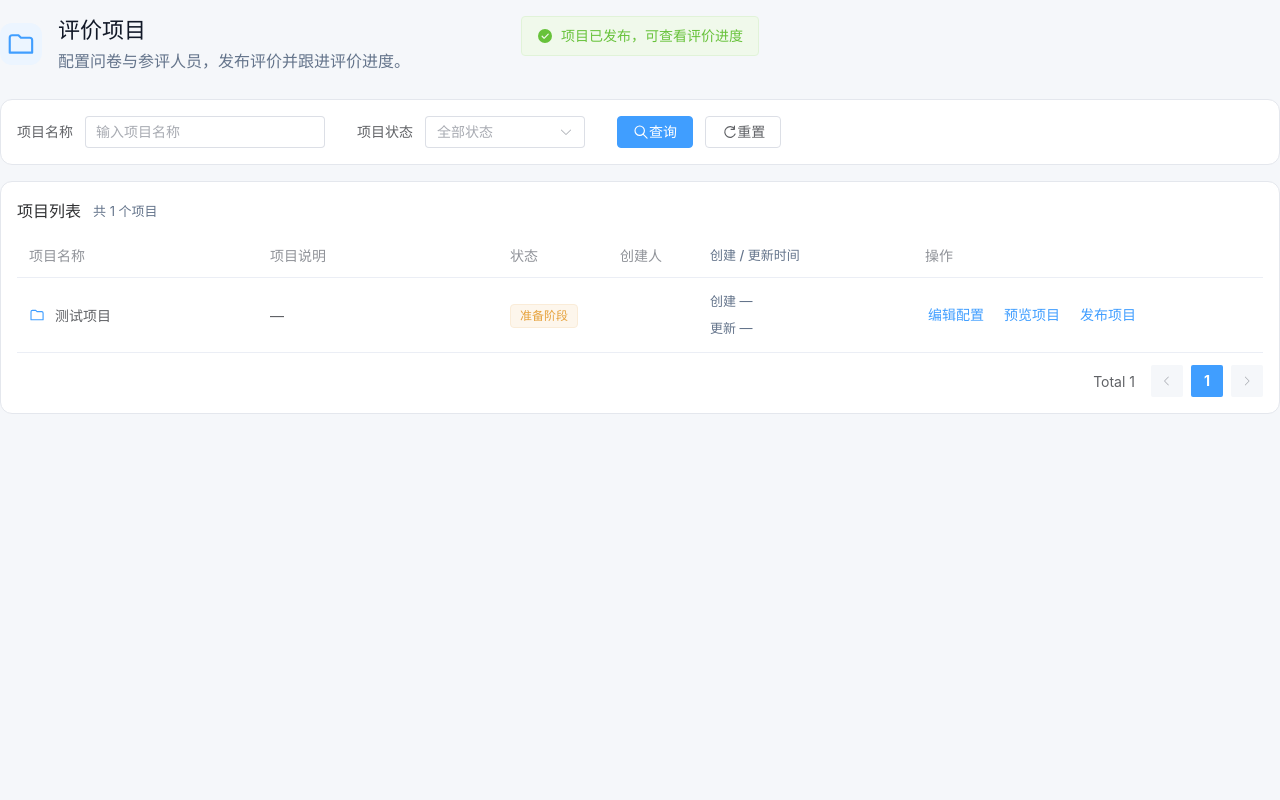
Scenario: 预览未完成配置展示四个只读页签和缺项，不保存或发布，失败可重试
The width and height of the screenshot is (1280, 800).
Click the button "预览项目" at point(1032, 315), box [1001,305,1063,325]
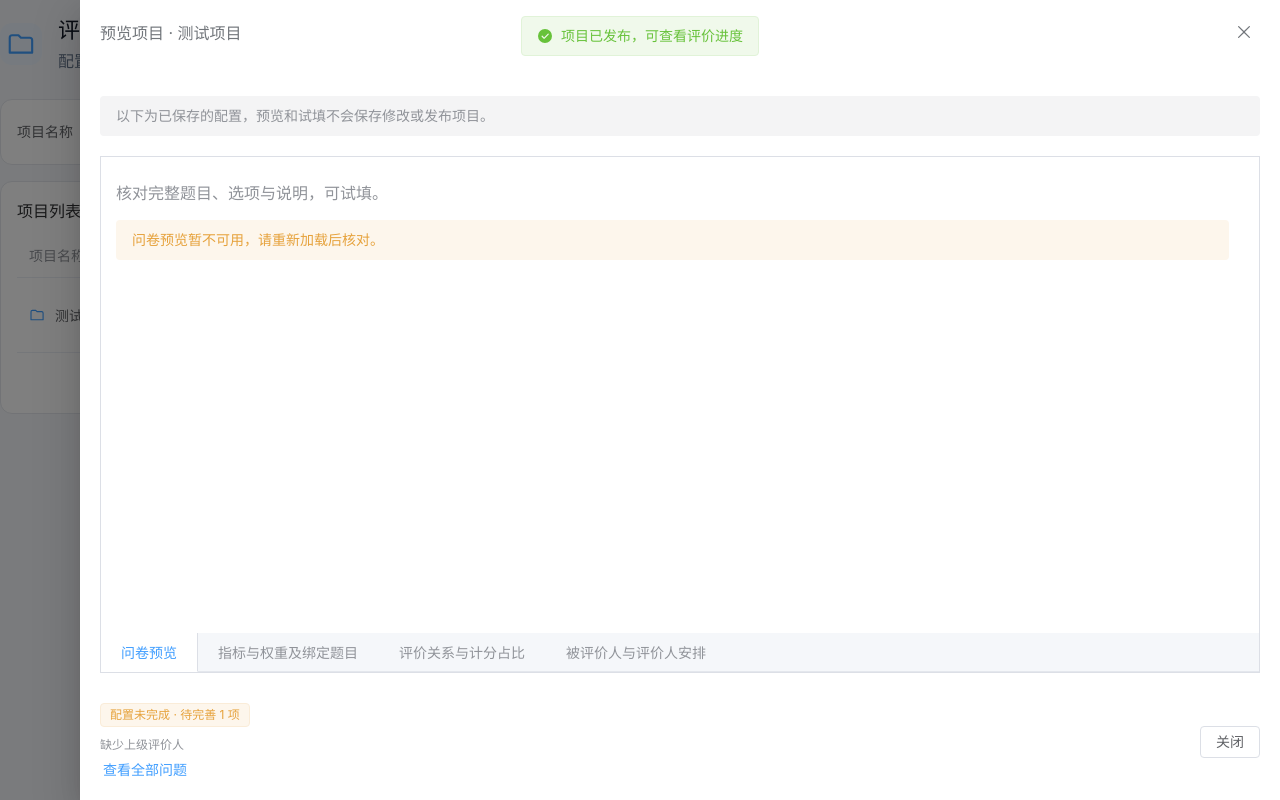
Result: the element showing "配置未完成 · 待完善 1 项 缺少上级评价人 查看全部问题 关闭" is shown at [80,693,1279,799]
Click the button "关闭" at point(1230, 742), box [1200,726,1260,758]
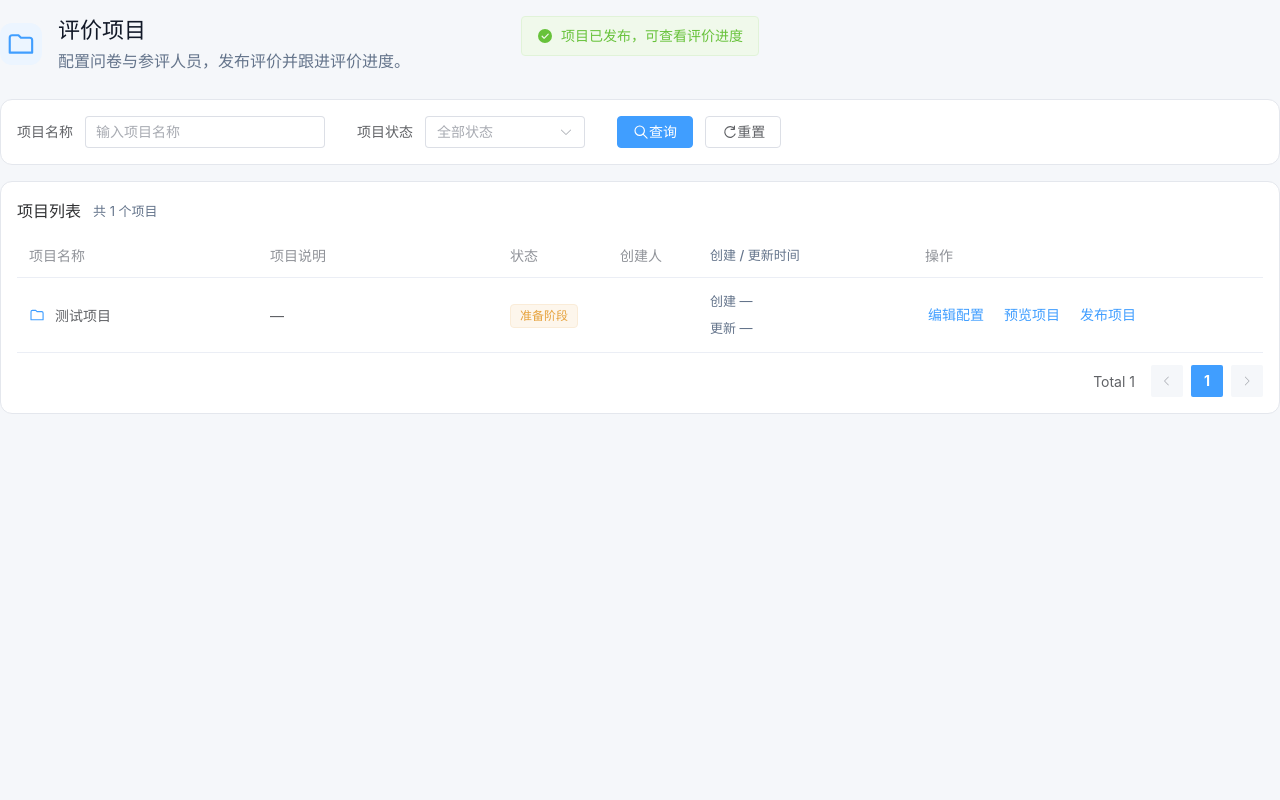
Click the button "预览项目" at point(1032, 315), box [1001,305,1063,325]
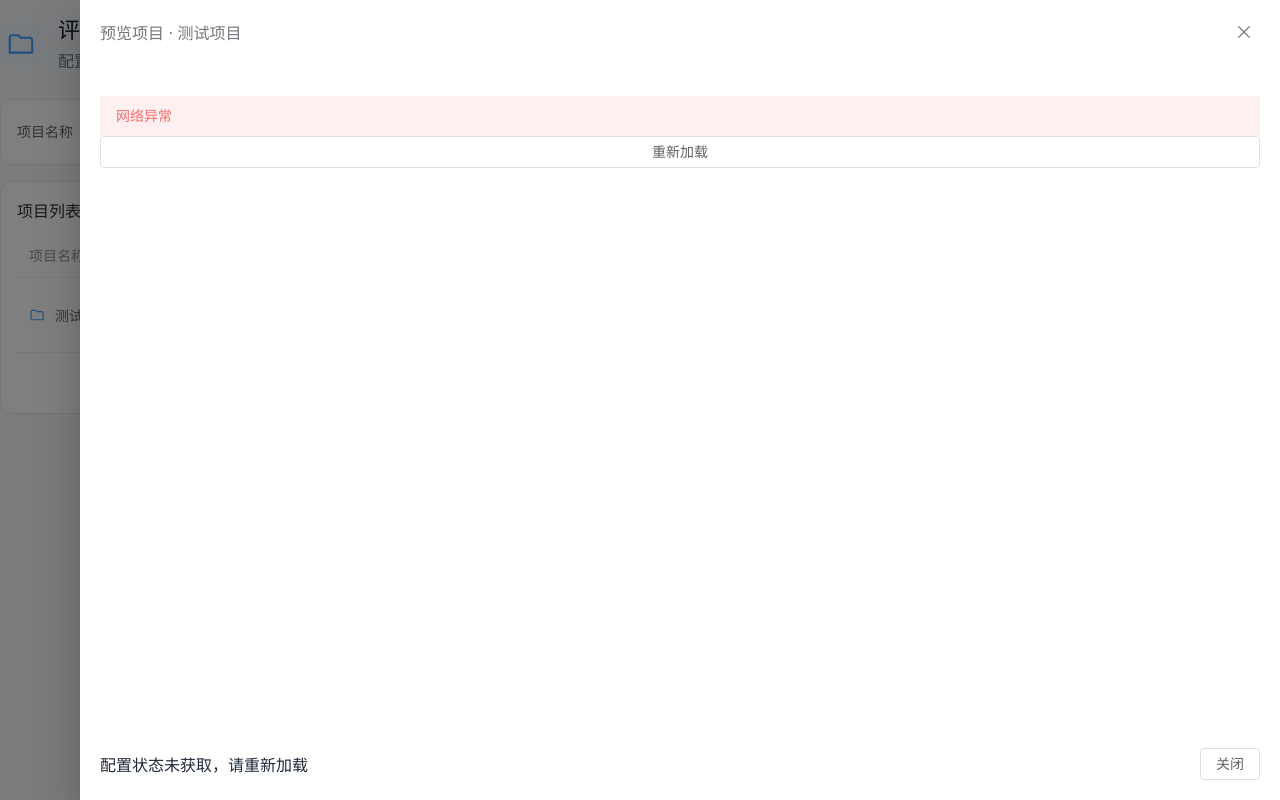
Result: the dialog shows "网络异常" at [116,107,172,124]
Click the button "重新加载" at point(680, 152), box [100,136,1260,168]
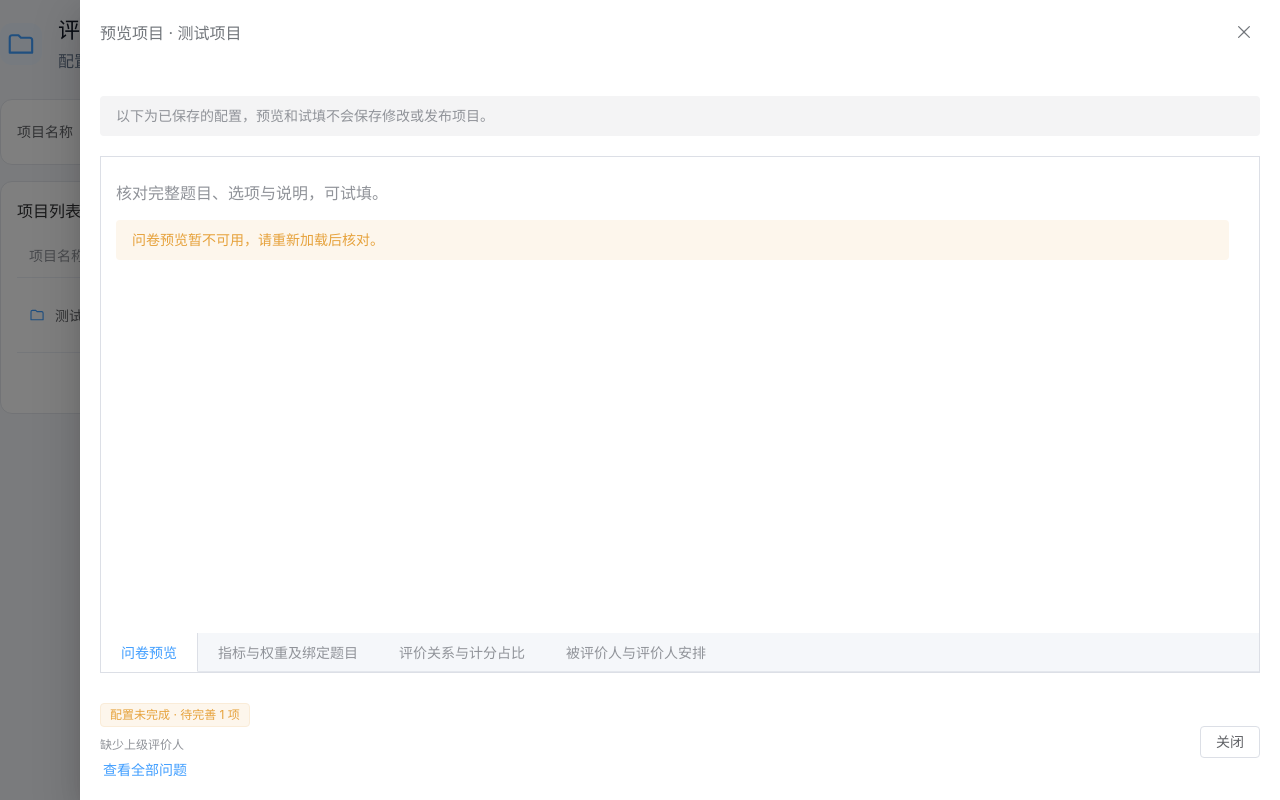
Result: the element showing "配置未完成 · 待完善 1 项 缺少上级评价人 查看全部问题 关闭" is shown at [80,693,1279,799]
